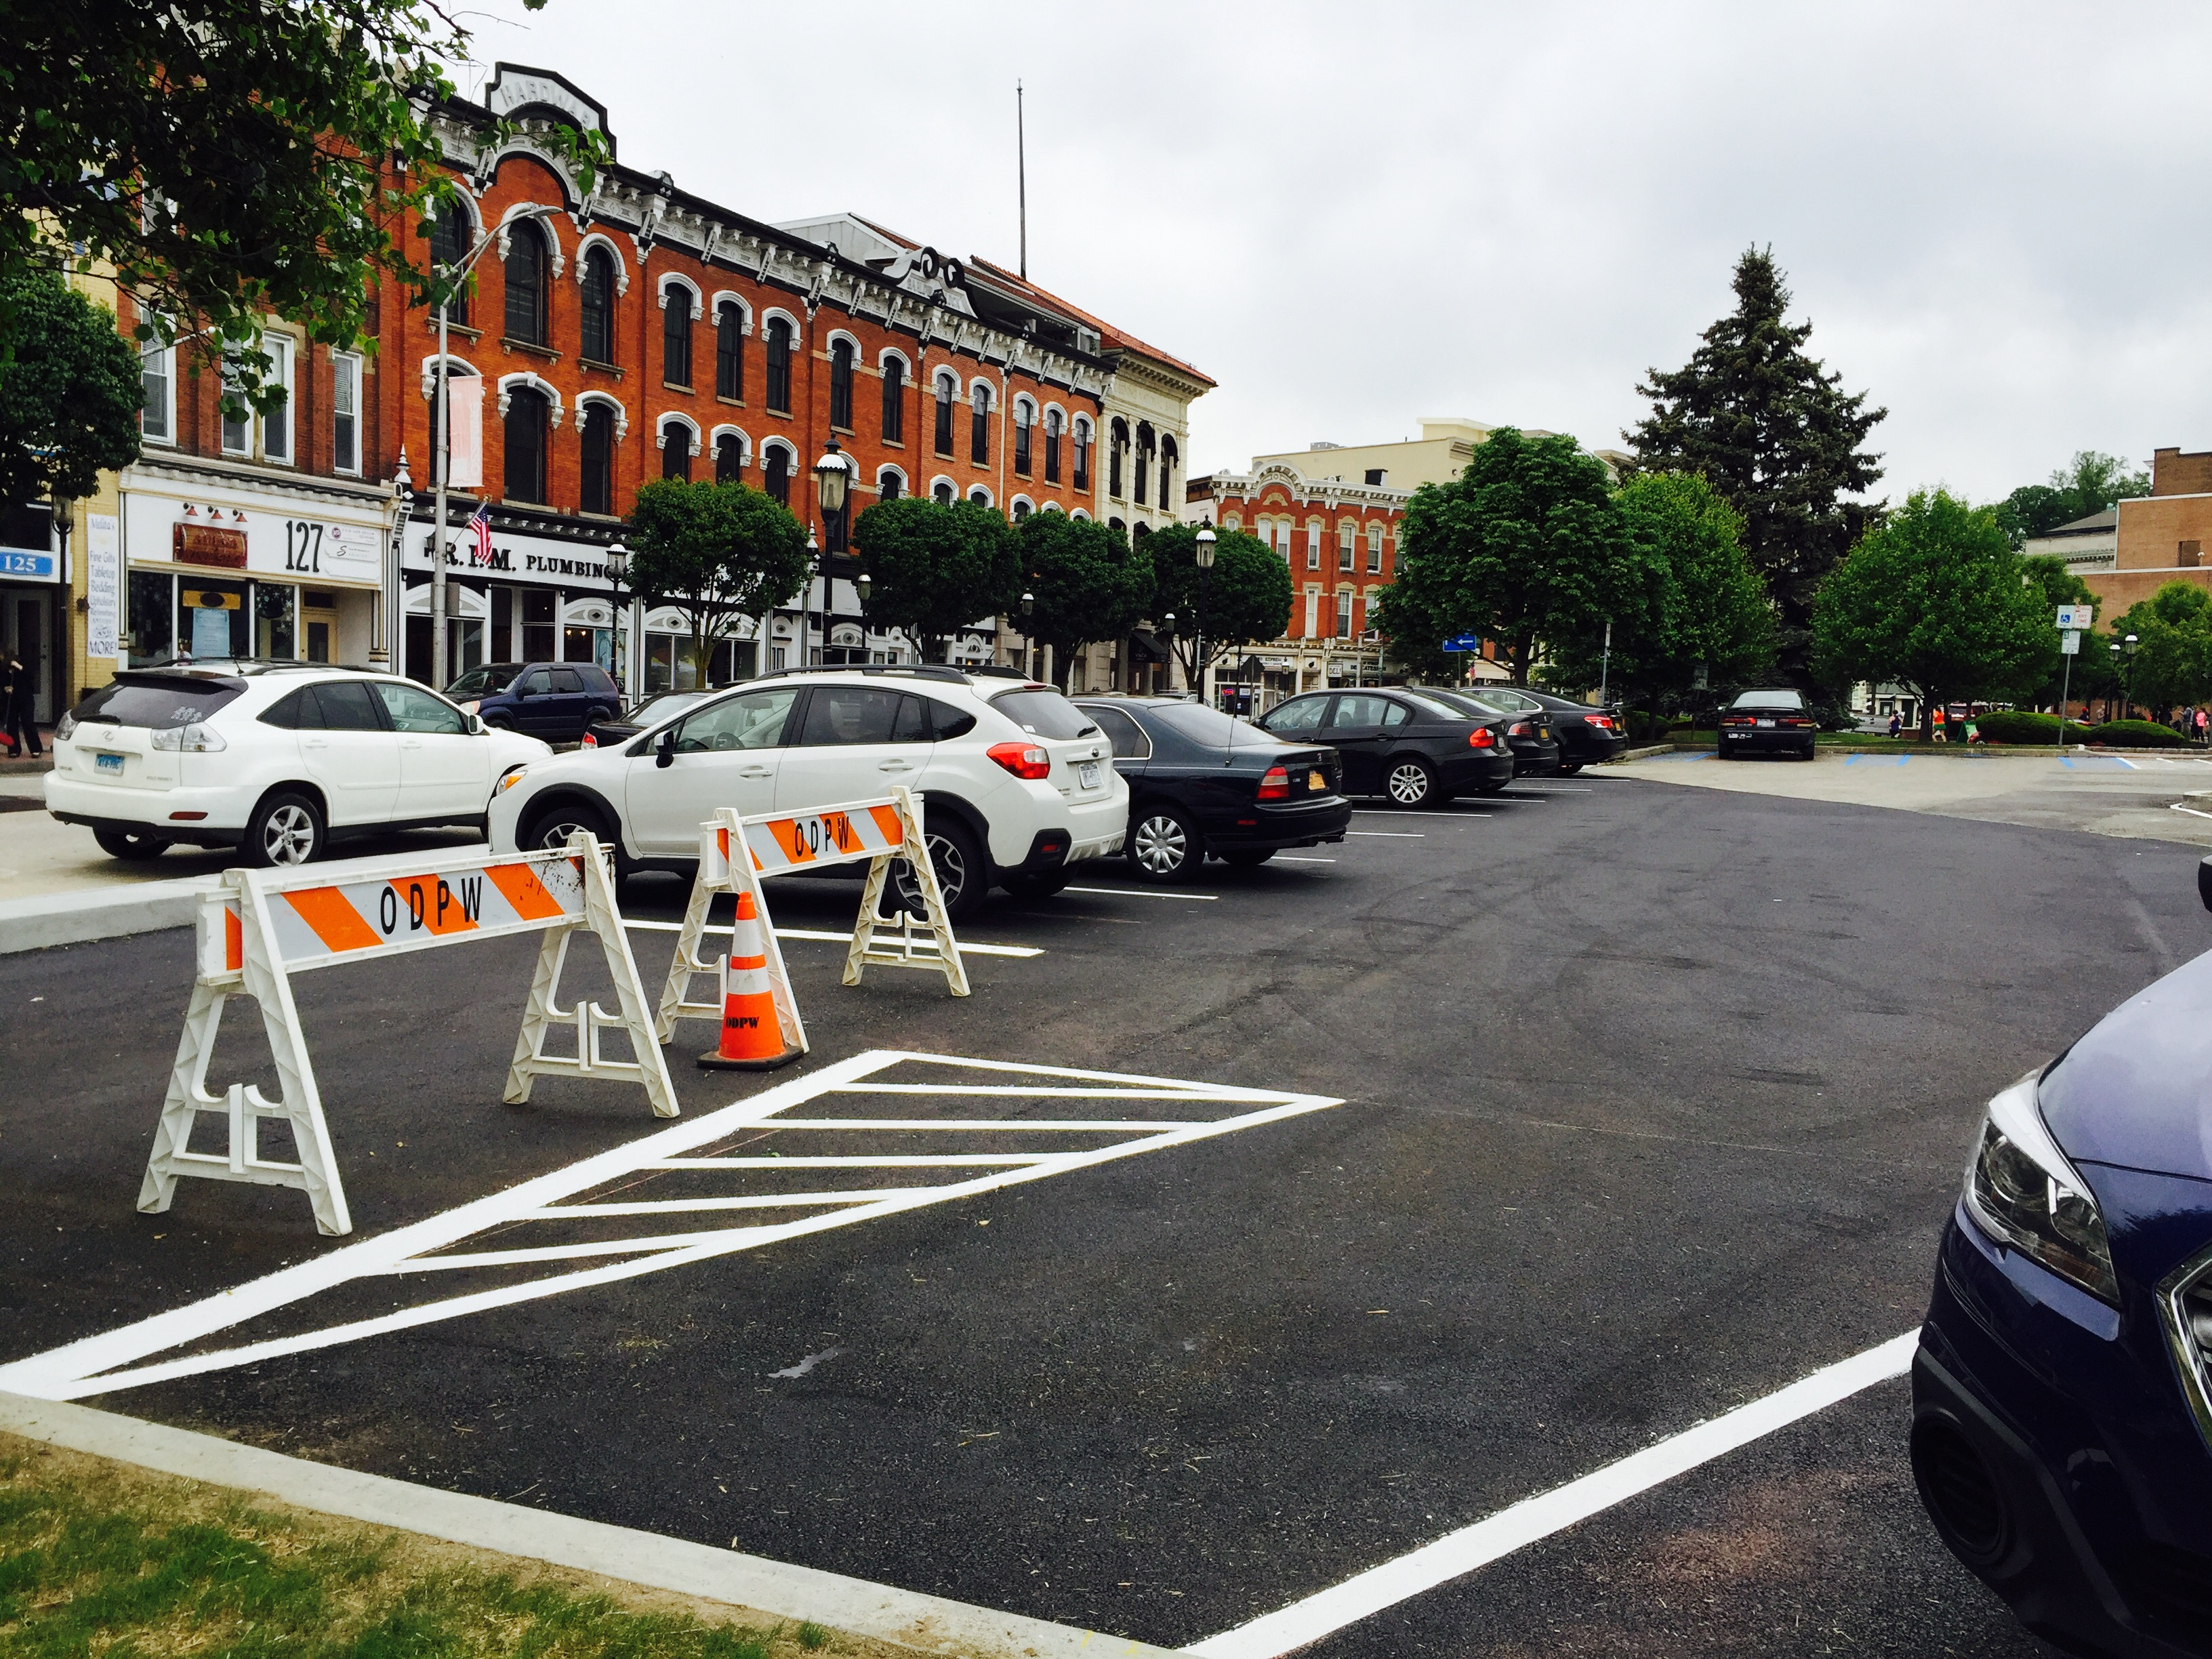empyt_space: (9, 1087, 1919, 1640)
